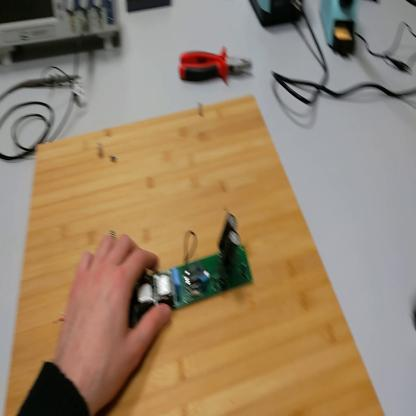hand: (57, 231, 170, 404)
high voltage board: (124, 211, 254, 326)
oscilloscope: (1, 2, 119, 70)
oscilloscope probe tip: (29, 72, 80, 89)
pliers: (178, 46, 253, 95)
welder base: (320, 2, 360, 64)
welder station: (248, 1, 305, 30)
working area: (4, 93, 384, 415)
